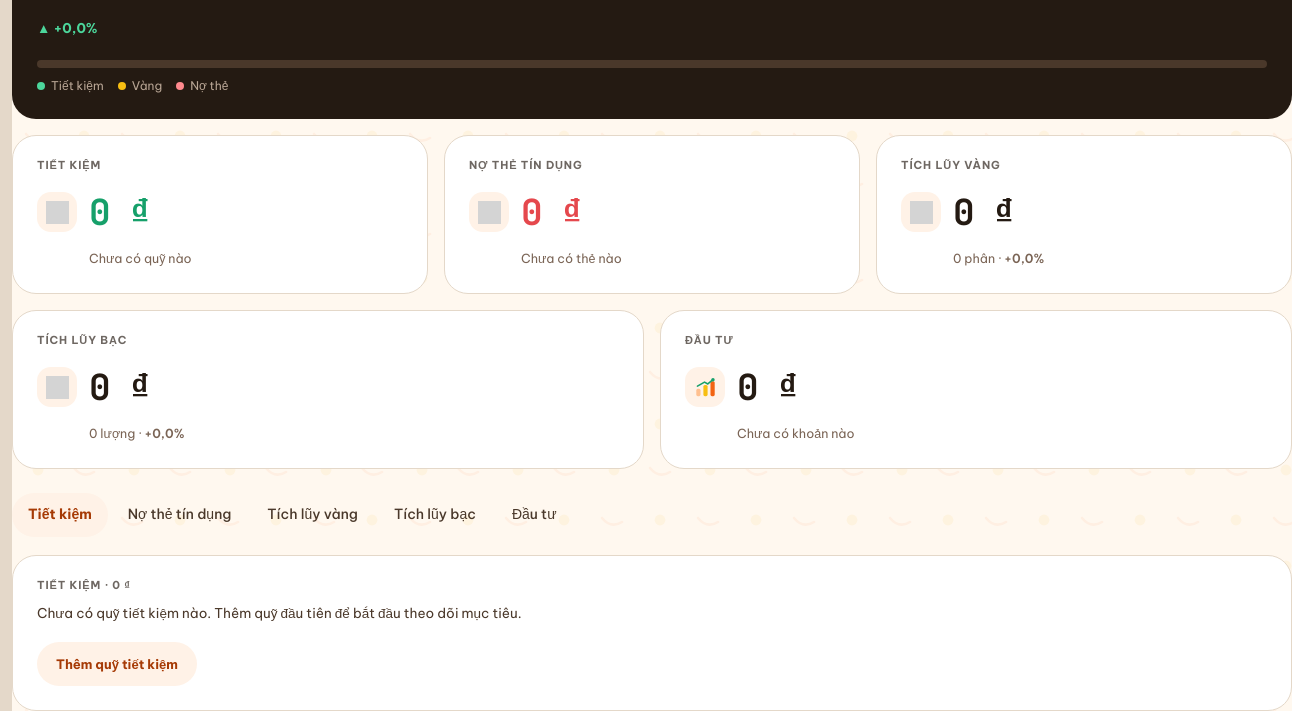
FinanceView › adding a savings fund updates the net-worth card's figure and the Tiết kiệm pillar
(page scrolled)
expect the text "Chưa có quỹ nào" is shown: met, box [89,250,192,266]
Click the button "Thêm quỹ tiết kiệm" at (117, 664), box [37,642,197,686]
(page scrolled)
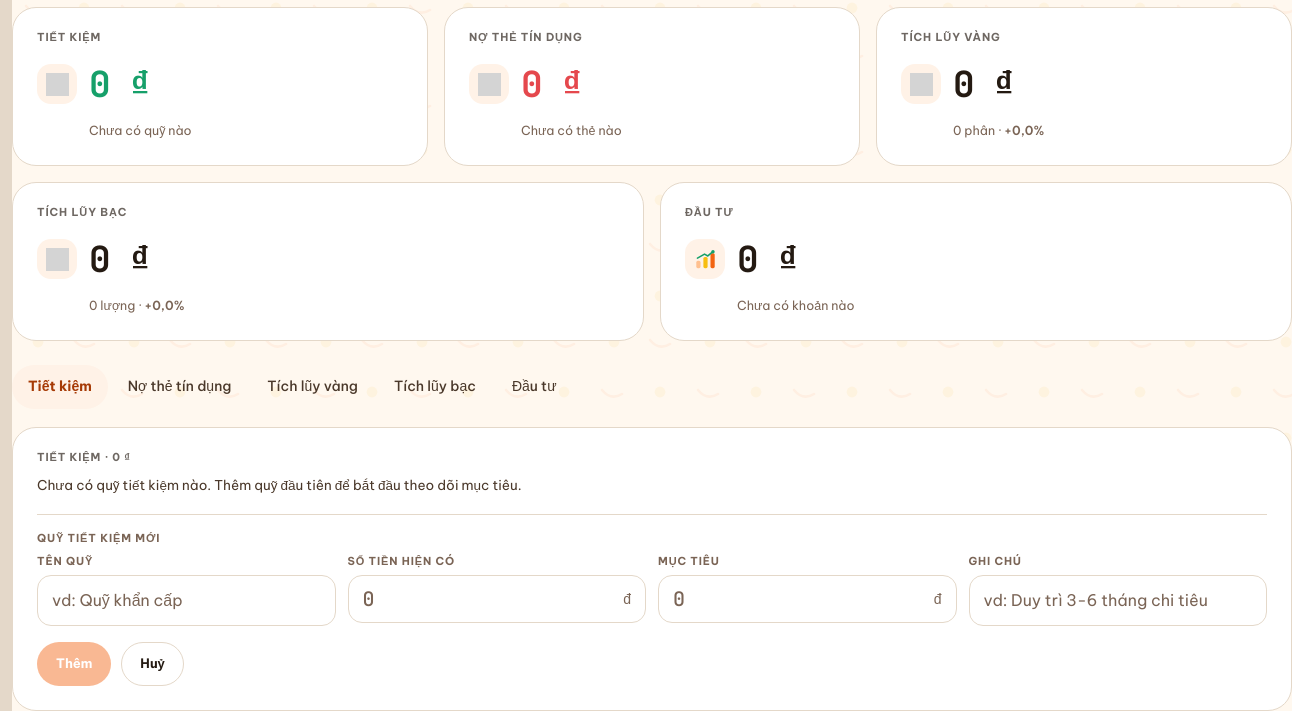
Type "Quỹ khẩn cấp" into the field labelled "Tên quỹ" at (186, 600), box [52,576,320,625]
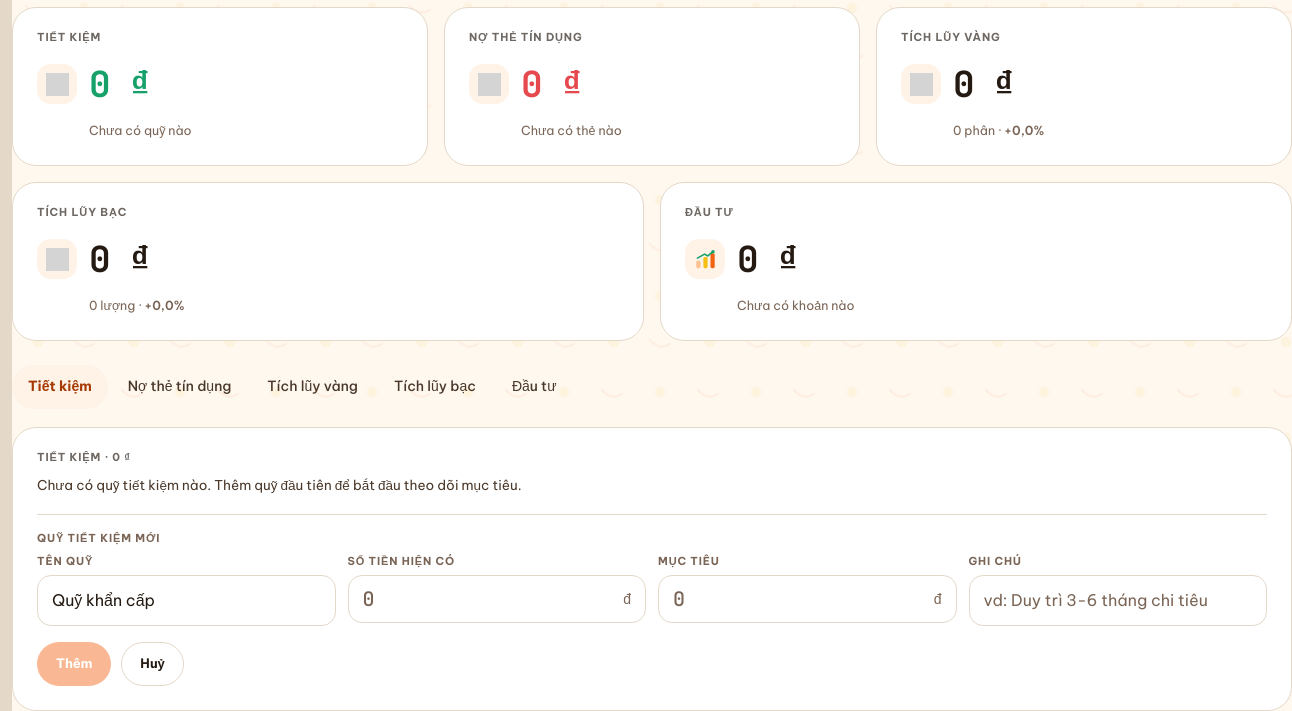
Type "3000000" into the field labelled "Số tiền hiện có" at (489, 599), box [362,576,615,622]
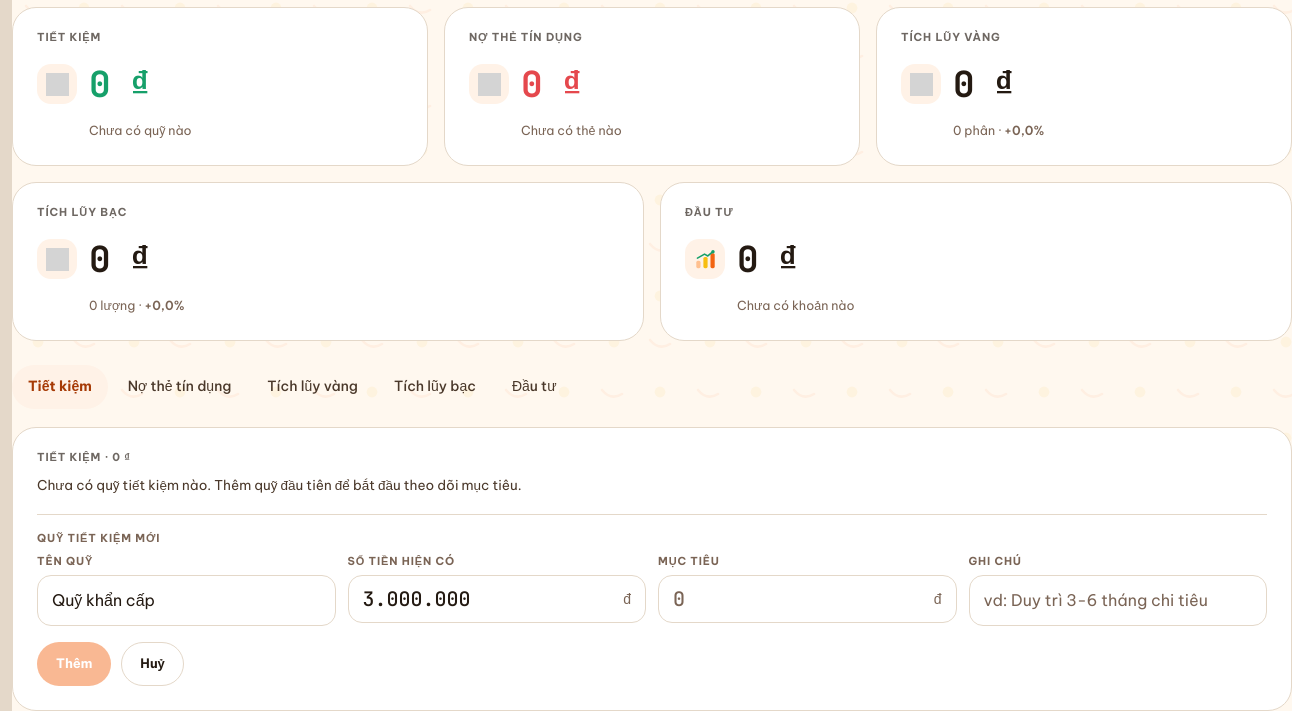
Type "5000000" into the field labelled "Mục tiêu" at (799, 599), box [673,576,926,622]
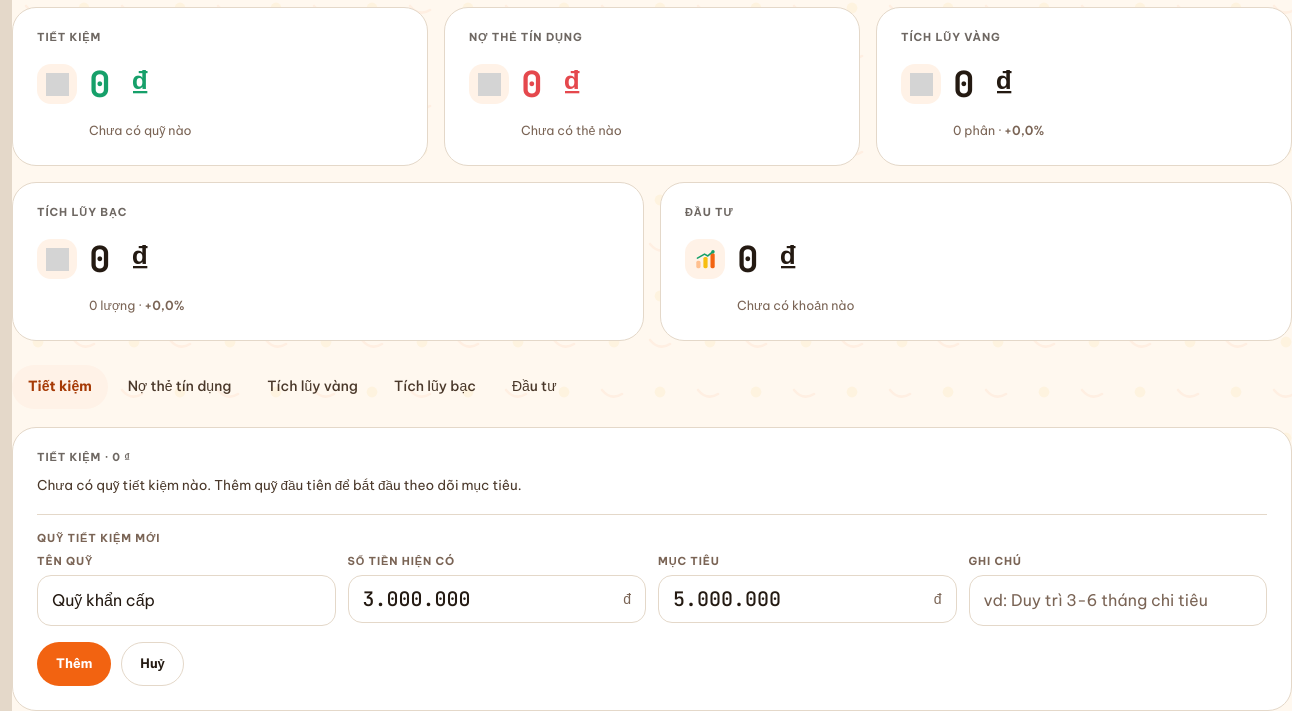
Click the button "Thêm" at (74, 664), box [37,642,111,686]
Wait 1200 ms
(page scrolled)
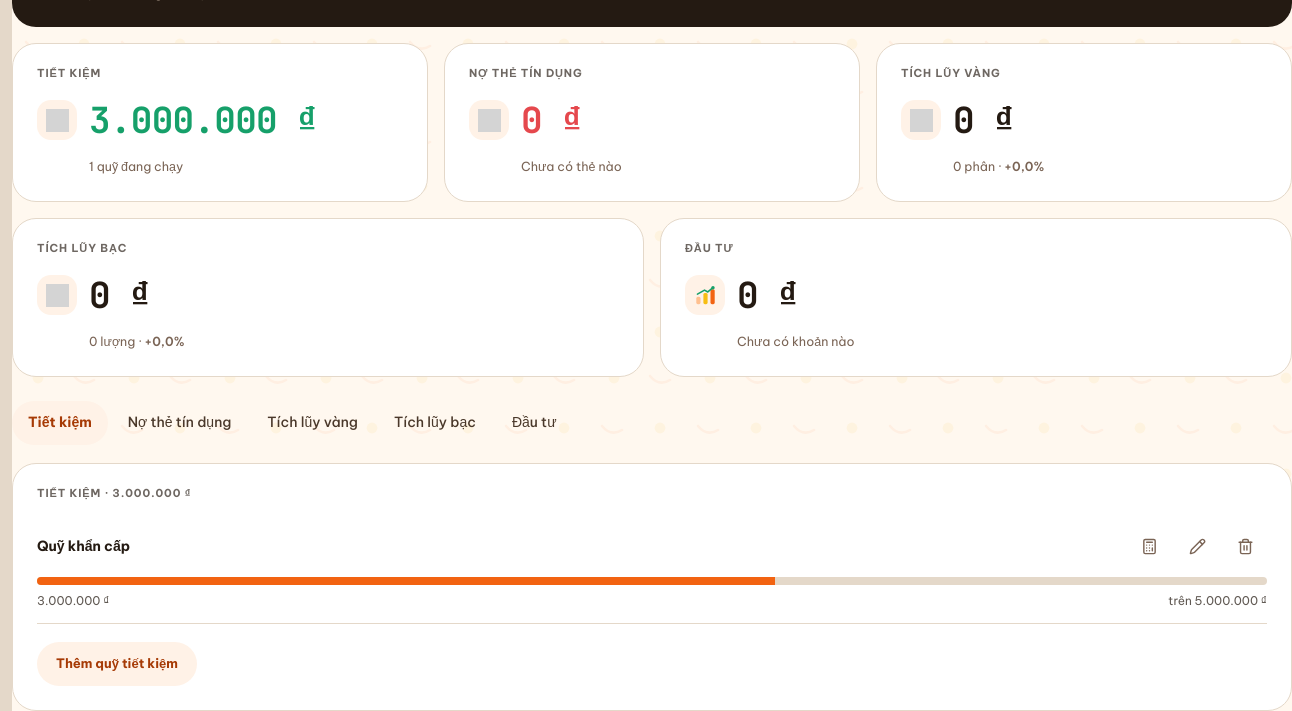
expect the text "1 quỹ đang chạy" is shown: met, box [89,158,183,174]
